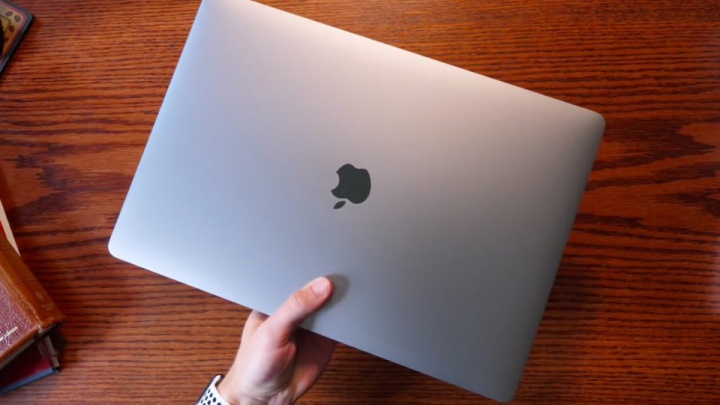apple: (325, 156, 384, 221)
